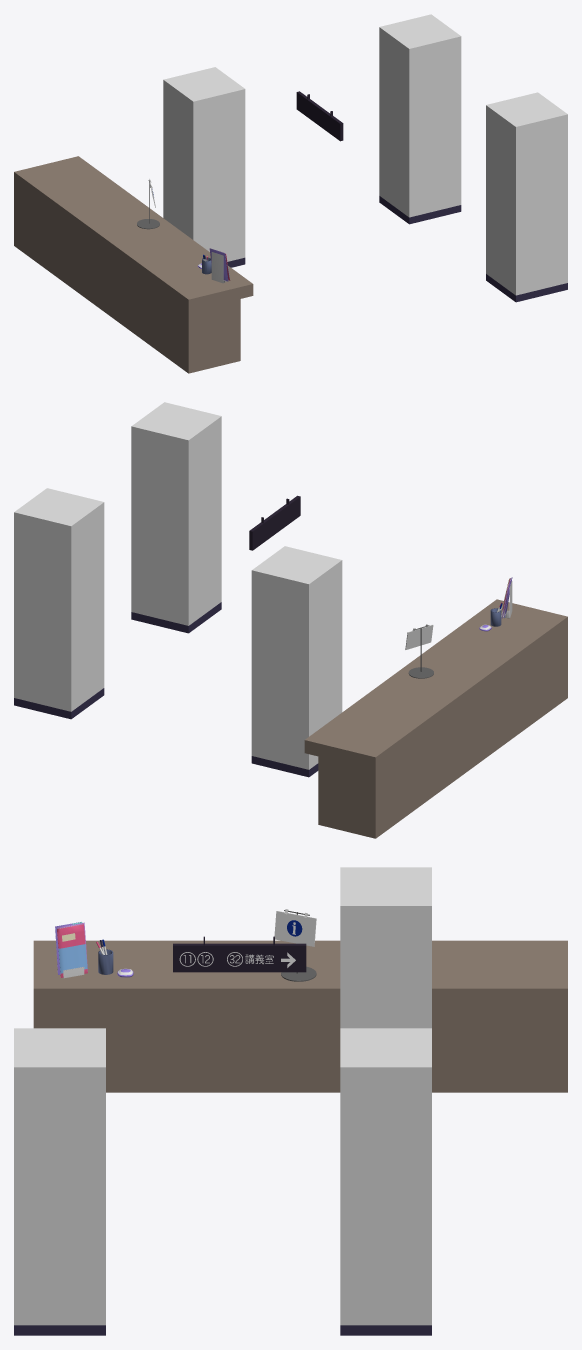
File: AdministrationDesk.fbx
The picture shows the model from 3 angles, top to bottom: view 1: azimuth 30°, elevation 25°; view 2: azimuth 150°, elevation 25°; view 3: azimuth 270°, elevation 25°; orthographic projection. The views are drawn at different scales.
Parts seen in each view (by area): view 1: Desk, Pillar2, Pillar1, Pillar3, Sign, Leaflets; view 2: Desk, Pillar1, Pillar2, Pillar3, Sign, InformationSiignStand; view 3: Desk, Pillar1, Pillar2, Pillar3, Sign, Leaflets, InformationSiignStand, SignType.
Part boxes in pixels (<box>): Desk: <box>14,156,253,373</box>; Pillar2: <box>379,14,461,224</box>; Pillar1: <box>486,92,567,302</box>; Pillar3: <box>163,67,245,267</box>; Sign: <box>296,91,343,141</box>; Leaflets: <box>209,248,230,283</box>; Desk: <box>304,599,567,838</box>; Pillar1: <box>131,402,221,633</box>; Pillar2: <box>14,488,104,719</box>; Pillar3: <box>251,546,342,777</box>; Sign: <box>249,495,300,550</box>; InformationSiignStand: <box>405,624,433,678</box>; Desk: <box>33,940,567,1092</box>; Pillar1: <box>14,1028,105,1335</box>; Pillar2: <box>340,1028,431,1335</box>; Pillar3: <box>340,867,431,1028</box>; Sign: <box>173,936,306,972</box>; Leaflets: <box>55,922,87,978</box>; InformationSiignStand: <box>274,909,316,981</box>; SignType: <box>179,952,295,967</box>.
Bounding box in the file's own units: 1432 × 644 × 1205.
